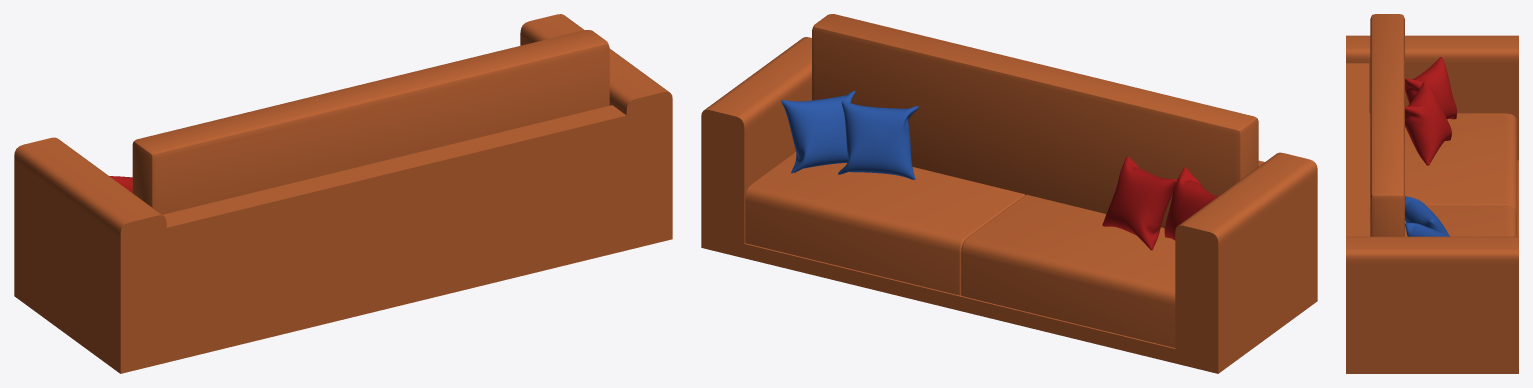
Rendered from Sofa.fbx.
3 views of the same model, side by side, from view 1: azimuth 30°, elevation 25°; view 2: azimuth 150°, elevation 25°; view 3: azimuth 270°, elevation 25° (orthographic). The views are drawn at different scales.
Visible parts, largest first — view 1: Sofa001; view 2: Sofa001, Cushion001, Cushion, Cushion_003, Cushion_2; view 3: Sofa001, Cushion_003, Cushion_2, Cushion001, Cushion.
Part boxes in pixels (bbox=[...]): Sofa001: bbox=[14, 14, 672, 373]; Sofa001: bbox=[701, 14, 1317, 373]; Cushion001: bbox=[838, 100, 918, 179]; Cushion: bbox=[781, 91, 855, 173]; Cushion_003: bbox=[1102, 156, 1177, 250]; Cushion_2: bbox=[1164, 167, 1218, 240]; Sofa001: bbox=[1346, 14, 1518, 373]; Cushion_003: bbox=[1405, 81, 1451, 165]; Cushion_2: bbox=[1405, 57, 1456, 119]; Cushion001: bbox=[1405, 196, 1449, 235]; Cushion: bbox=[1405, 222, 1450, 236].
Bounding box in the file's own units: 300 × 100 × 103.
